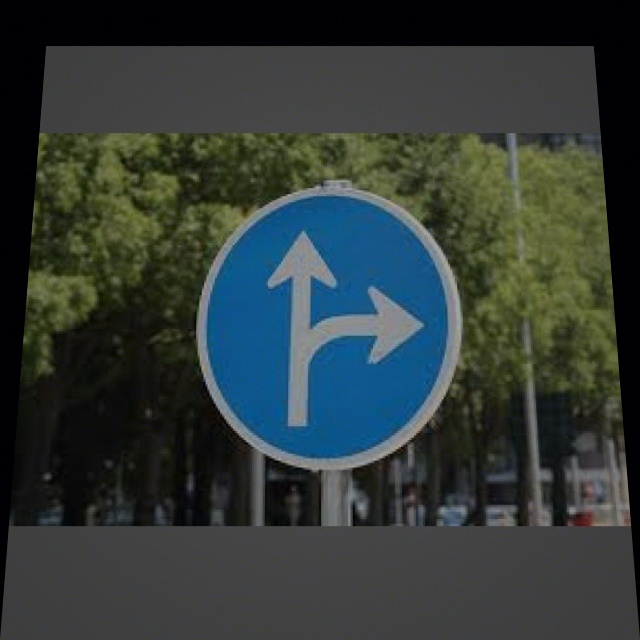Compulsory_Ahead_or_Turn_Right: (192, 189, 468, 472)
